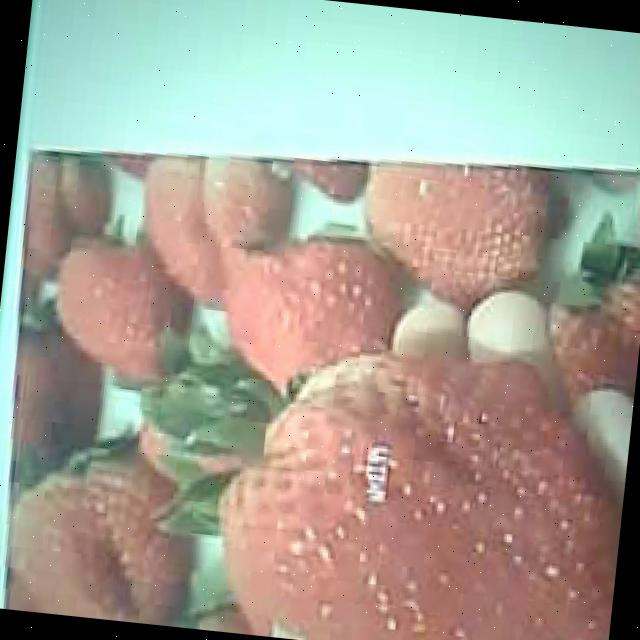strawberry: (199, 334, 636, 640)
